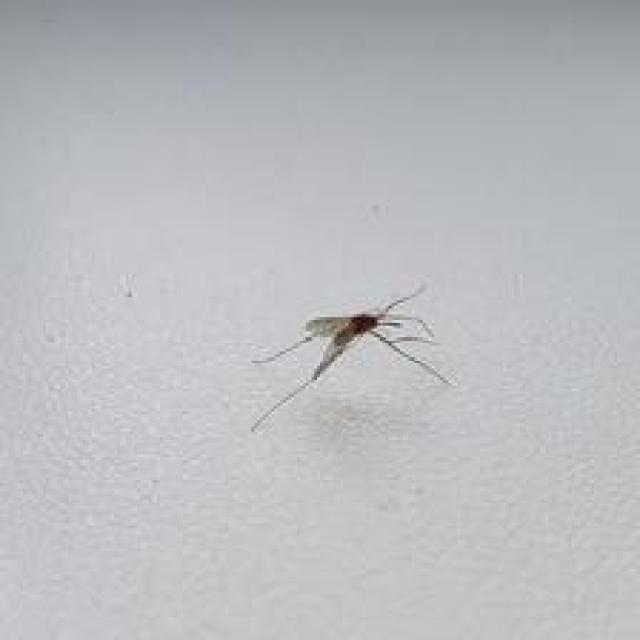Culex: (248, 281, 452, 433)
